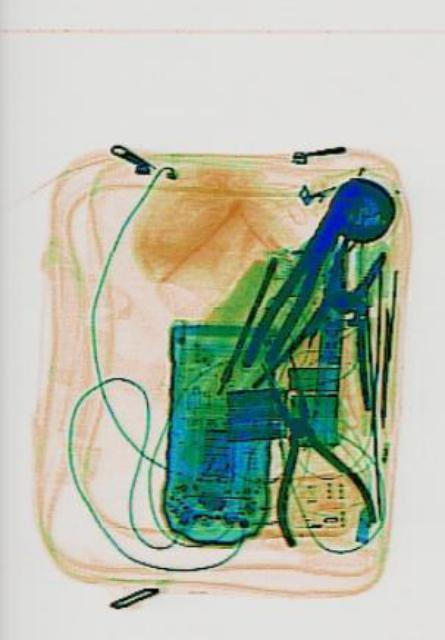Pliers: (249, 209, 414, 443), (231, 332, 376, 566), (238, 168, 362, 378)
